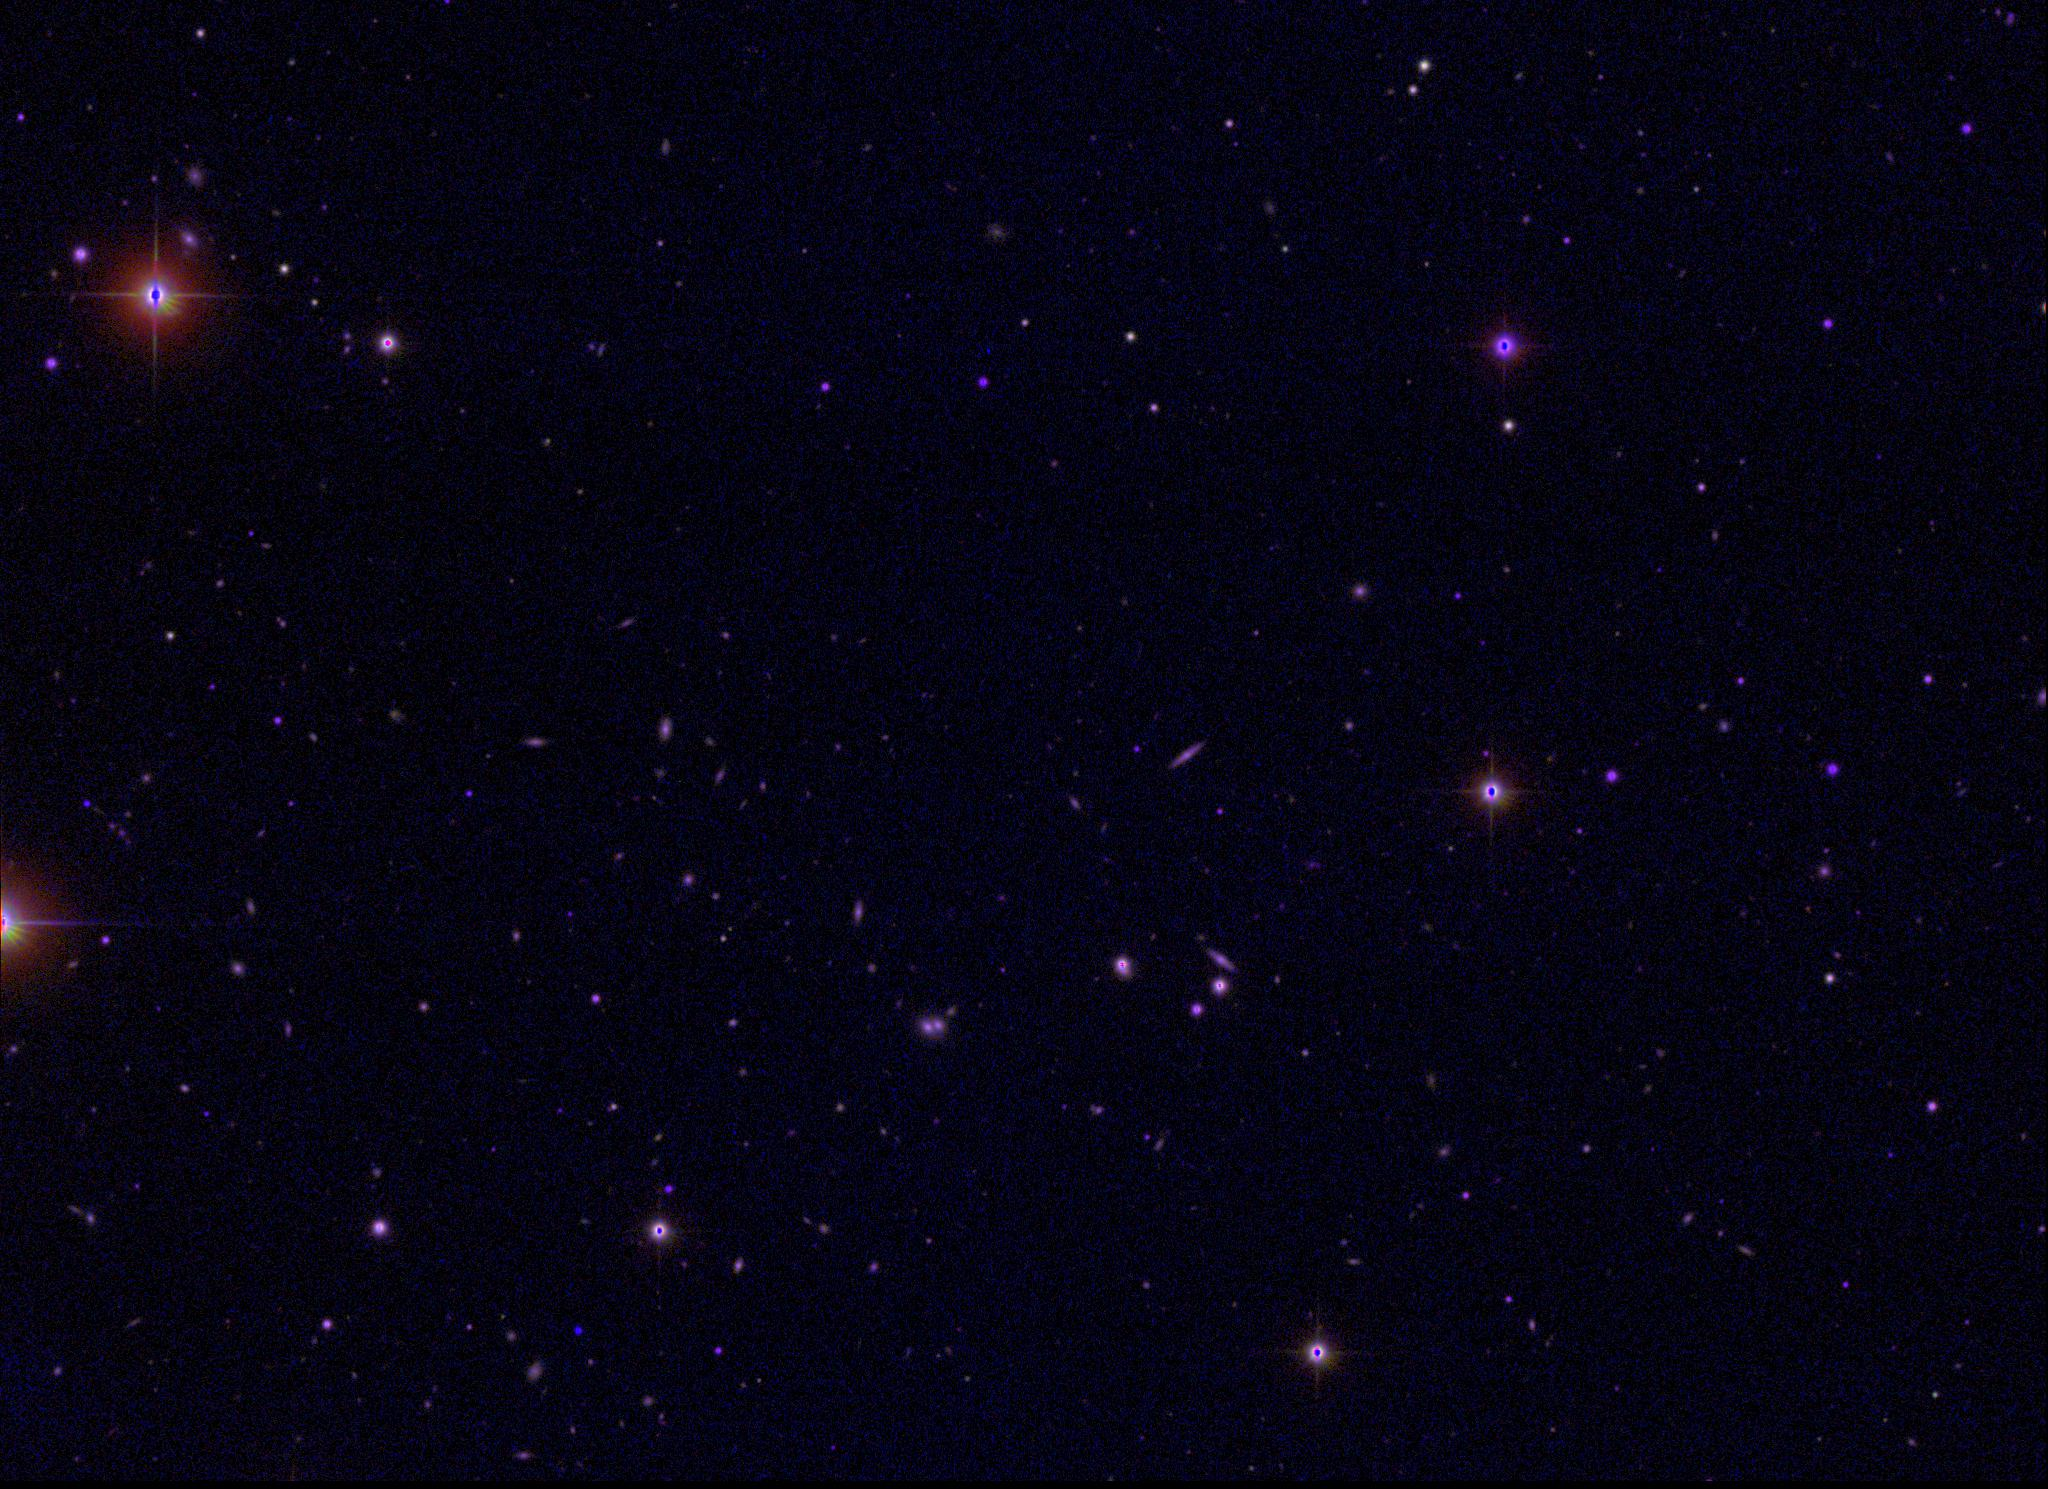L: (569, 1320, 584, 1335)
